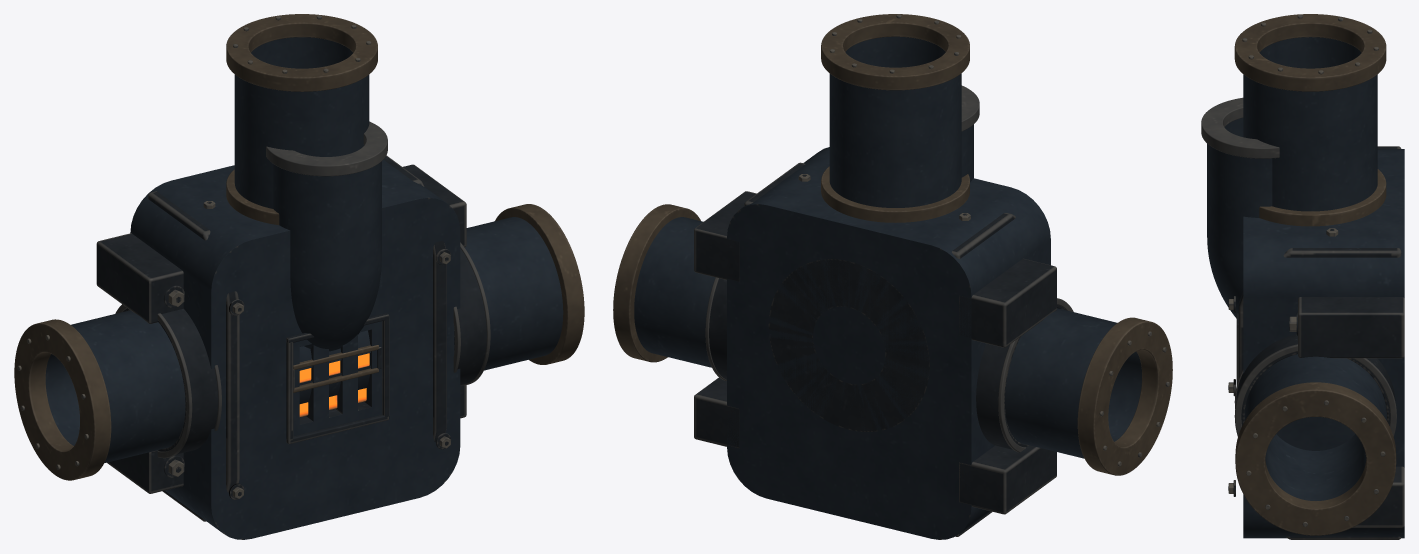
The model's file is chapter3_props.glb.
The picture shows the model from 3 angles, left to right: view 1: azimuth 30°, elevation 25°; view 2: azimuth 150°, elevation 25°; view 3: azimuth 270°, elevation 25°; orthographic projection.
Visible parts, largest first — view 1: exhaust_vent, side_conduit, elbow_pipe; view 2: exhaust_vent, side_conduit, elbow_pipe; view 3: exhaust_vent, side_conduit, elbow_pipe.
Boxes of the visible parts, x1=… form: exhaust_vent: x1=130, y1=14, x2=460, y2=539; side_conduit: x1=14, y1=164, x2=584, y2=493; elbow_pipe: x1=266, y1=121, x2=387, y2=351; exhaust_vent: x1=727, y1=14, x2=1050, y2=539; side_conduit: x1=613, y1=191, x2=1172, y2=514; elbow_pipe: x1=768, y1=85, x2=979, y2=431; exhaust_vent: x1=1228, y1=14, x2=1404, y2=539; side_conduit: x1=1234, y1=297, x2=1404, y2=535; elbow_pipe: x1=1201, y1=97, x2=1279, y2=318.
Bounding box in the file's own units: 0.866 × 0.753 × 0.309.
Materials: 1 (1 with a texture image).
